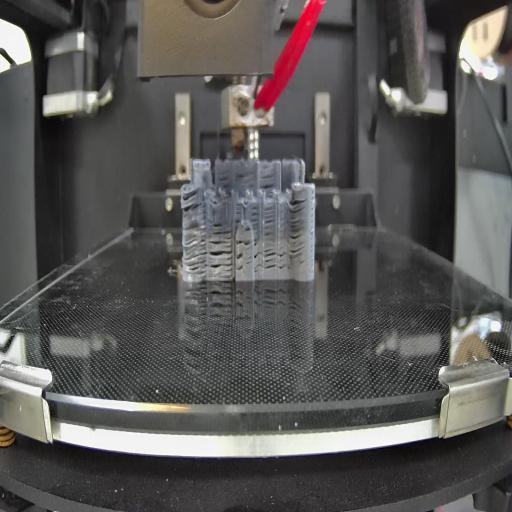cracks: (183, 224, 206, 274), (208, 239, 233, 273), (291, 199, 305, 258), (181, 189, 205, 212), (263, 208, 275, 238), (262, 246, 277, 270), (212, 221, 233, 237), (252, 236, 260, 272), (278, 245, 288, 272), (219, 172, 232, 189), (260, 174, 275, 188), (249, 207, 258, 225), (236, 238, 252, 247), (236, 254, 244, 272), (234, 202, 240, 224), (244, 226, 252, 233), (238, 173, 252, 177)
